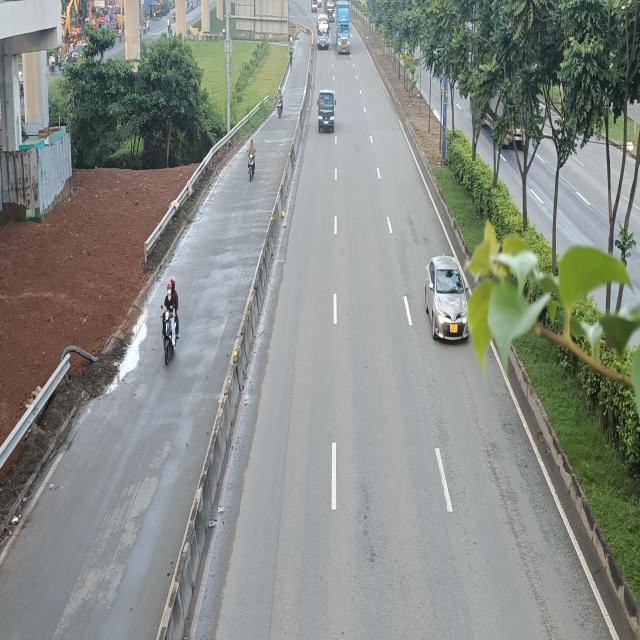car: (425, 254, 468, 342)
coach: (316, 14, 330, 50)
container: (336, 0, 352, 55)
truck: (317, 88, 336, 133)
